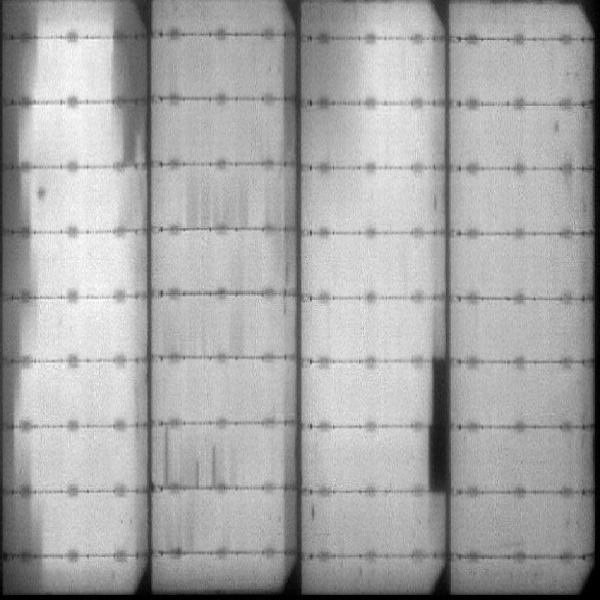black_border: (426, 360, 449, 492)
scratch: (159, 427, 177, 486), (189, 453, 206, 494), (208, 446, 223, 487)
